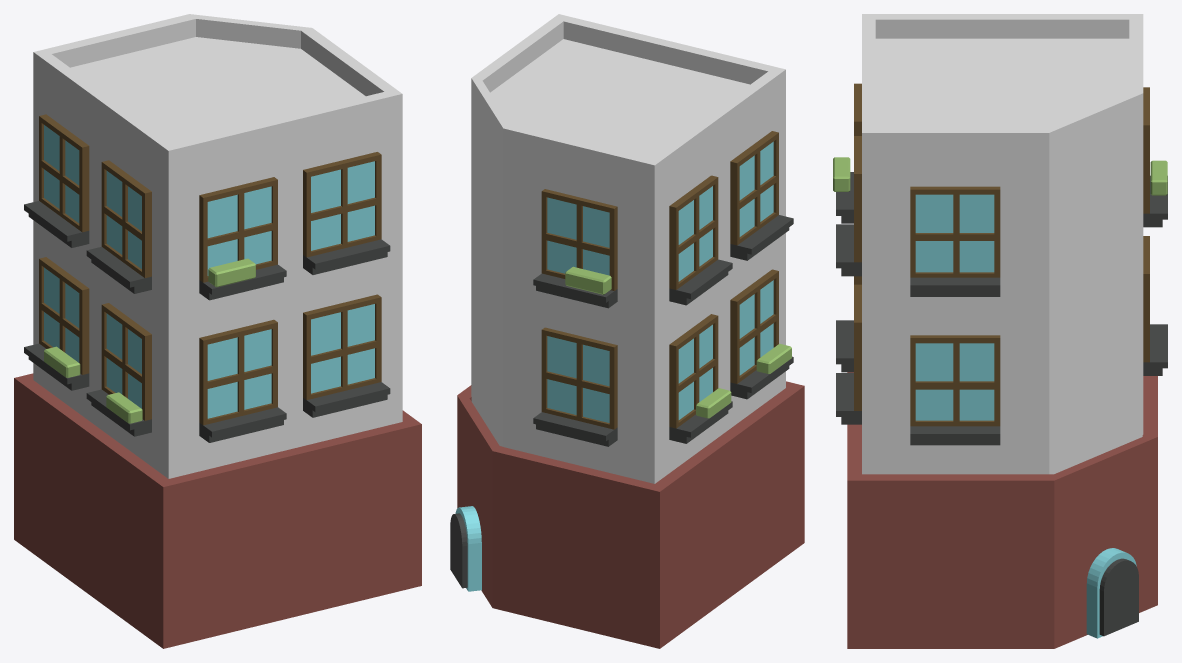
Rendered from Hotel.fbx.
The picture shows the model from 3 angles, left to right: view 1: azimuth 30°, elevation 25°; view 2: azimuth 150°, elevation 25°; view 3: azimuth 270°, elevation 25°; orthographic projection. The views are drawn at different scales.
Parts seen in each view (by area): view 1: Cube, Cube.005, Cube.015, Cube.017, Cube.016, Cube.014, Cube.010, Cube.012, Cube.011, Cube.013, Cube.019, Cube.001 (+1 smaller); view 2: Cube, Cube.005, Cube.007, Cube.002, Cube.010, Cube.012, Cube.011, Cube.013, Cube.003, Cube.004, Cube.006, Cube.018 (+1 smaller); view 3: Cube, Cube.005, Cube.008, Cube.009, Cube.004, Cube.016, Cube.017, Cube.007, Cube.002, Cube.003, Cube.014, Cube.015 (+2 smaller).
Part boxes in pixels (x1,y1,x2,y2): Cube: [33, 14, 402, 478]; Cube.005: [14, 373, 421, 648]; Cube.015: [199, 319, 286, 442]; Cube.017: [303, 294, 390, 417]; Cube.016: [303, 152, 390, 274]; Cube.014: [199, 177, 286, 300]; Cube.010: [24, 114, 89, 247]; Cube.012: [86, 160, 151, 293]; Cube.011: [24, 257, 89, 390]; Cube.013: [86, 303, 151, 436]; Cube.019: [208, 258, 255, 287]; Cube.001: [106, 392, 142, 423]; Cube: [471, 14, 785, 483]; Cube.005: [457, 381, 804, 648]; Cube.007: [533, 327, 617, 446]; Cube.002: [533, 189, 617, 308]; Cube.010: [669, 175, 732, 305]; Cube.012: [730, 131, 793, 260]; Cube.011: [669, 314, 732, 443]; Cube.013: [730, 269, 793, 399]; Cube.003: [455, 506, 481, 591]; Cube.004: [450, 513, 467, 588]; Cube.006: [565, 266, 611, 294]; Cube.018: [696, 388, 731, 418]; Cube: [862, 14, 1143, 474]; Cube.005: [847, 372, 1157, 648]; Cube.008: [910, 186, 1000, 296]; Cube.009: [910, 335, 1000, 445]; Cube.004: [1099, 558, 1138, 636]; Cube.016: [836, 136, 861, 276]; Cube.017: [836, 284, 861, 424]; Cube.007: [1143, 236, 1167, 375]; Cube.002: [1143, 87, 1167, 227]; Cube.003: [1086, 548, 1136, 638]; Cube.014: [836, 83, 861, 223]; Cube.015: [836, 276, 861, 372].
Bounding box in the file's own units: 1187 × 2001 × 1191.
